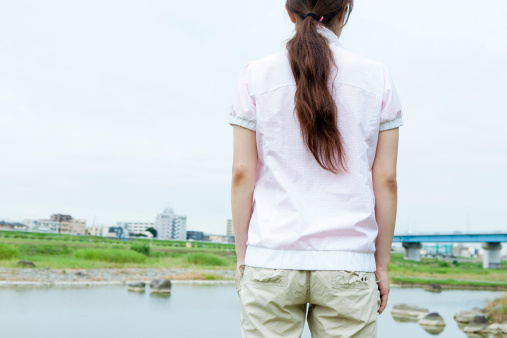em pe: (204, 0, 410, 338)
